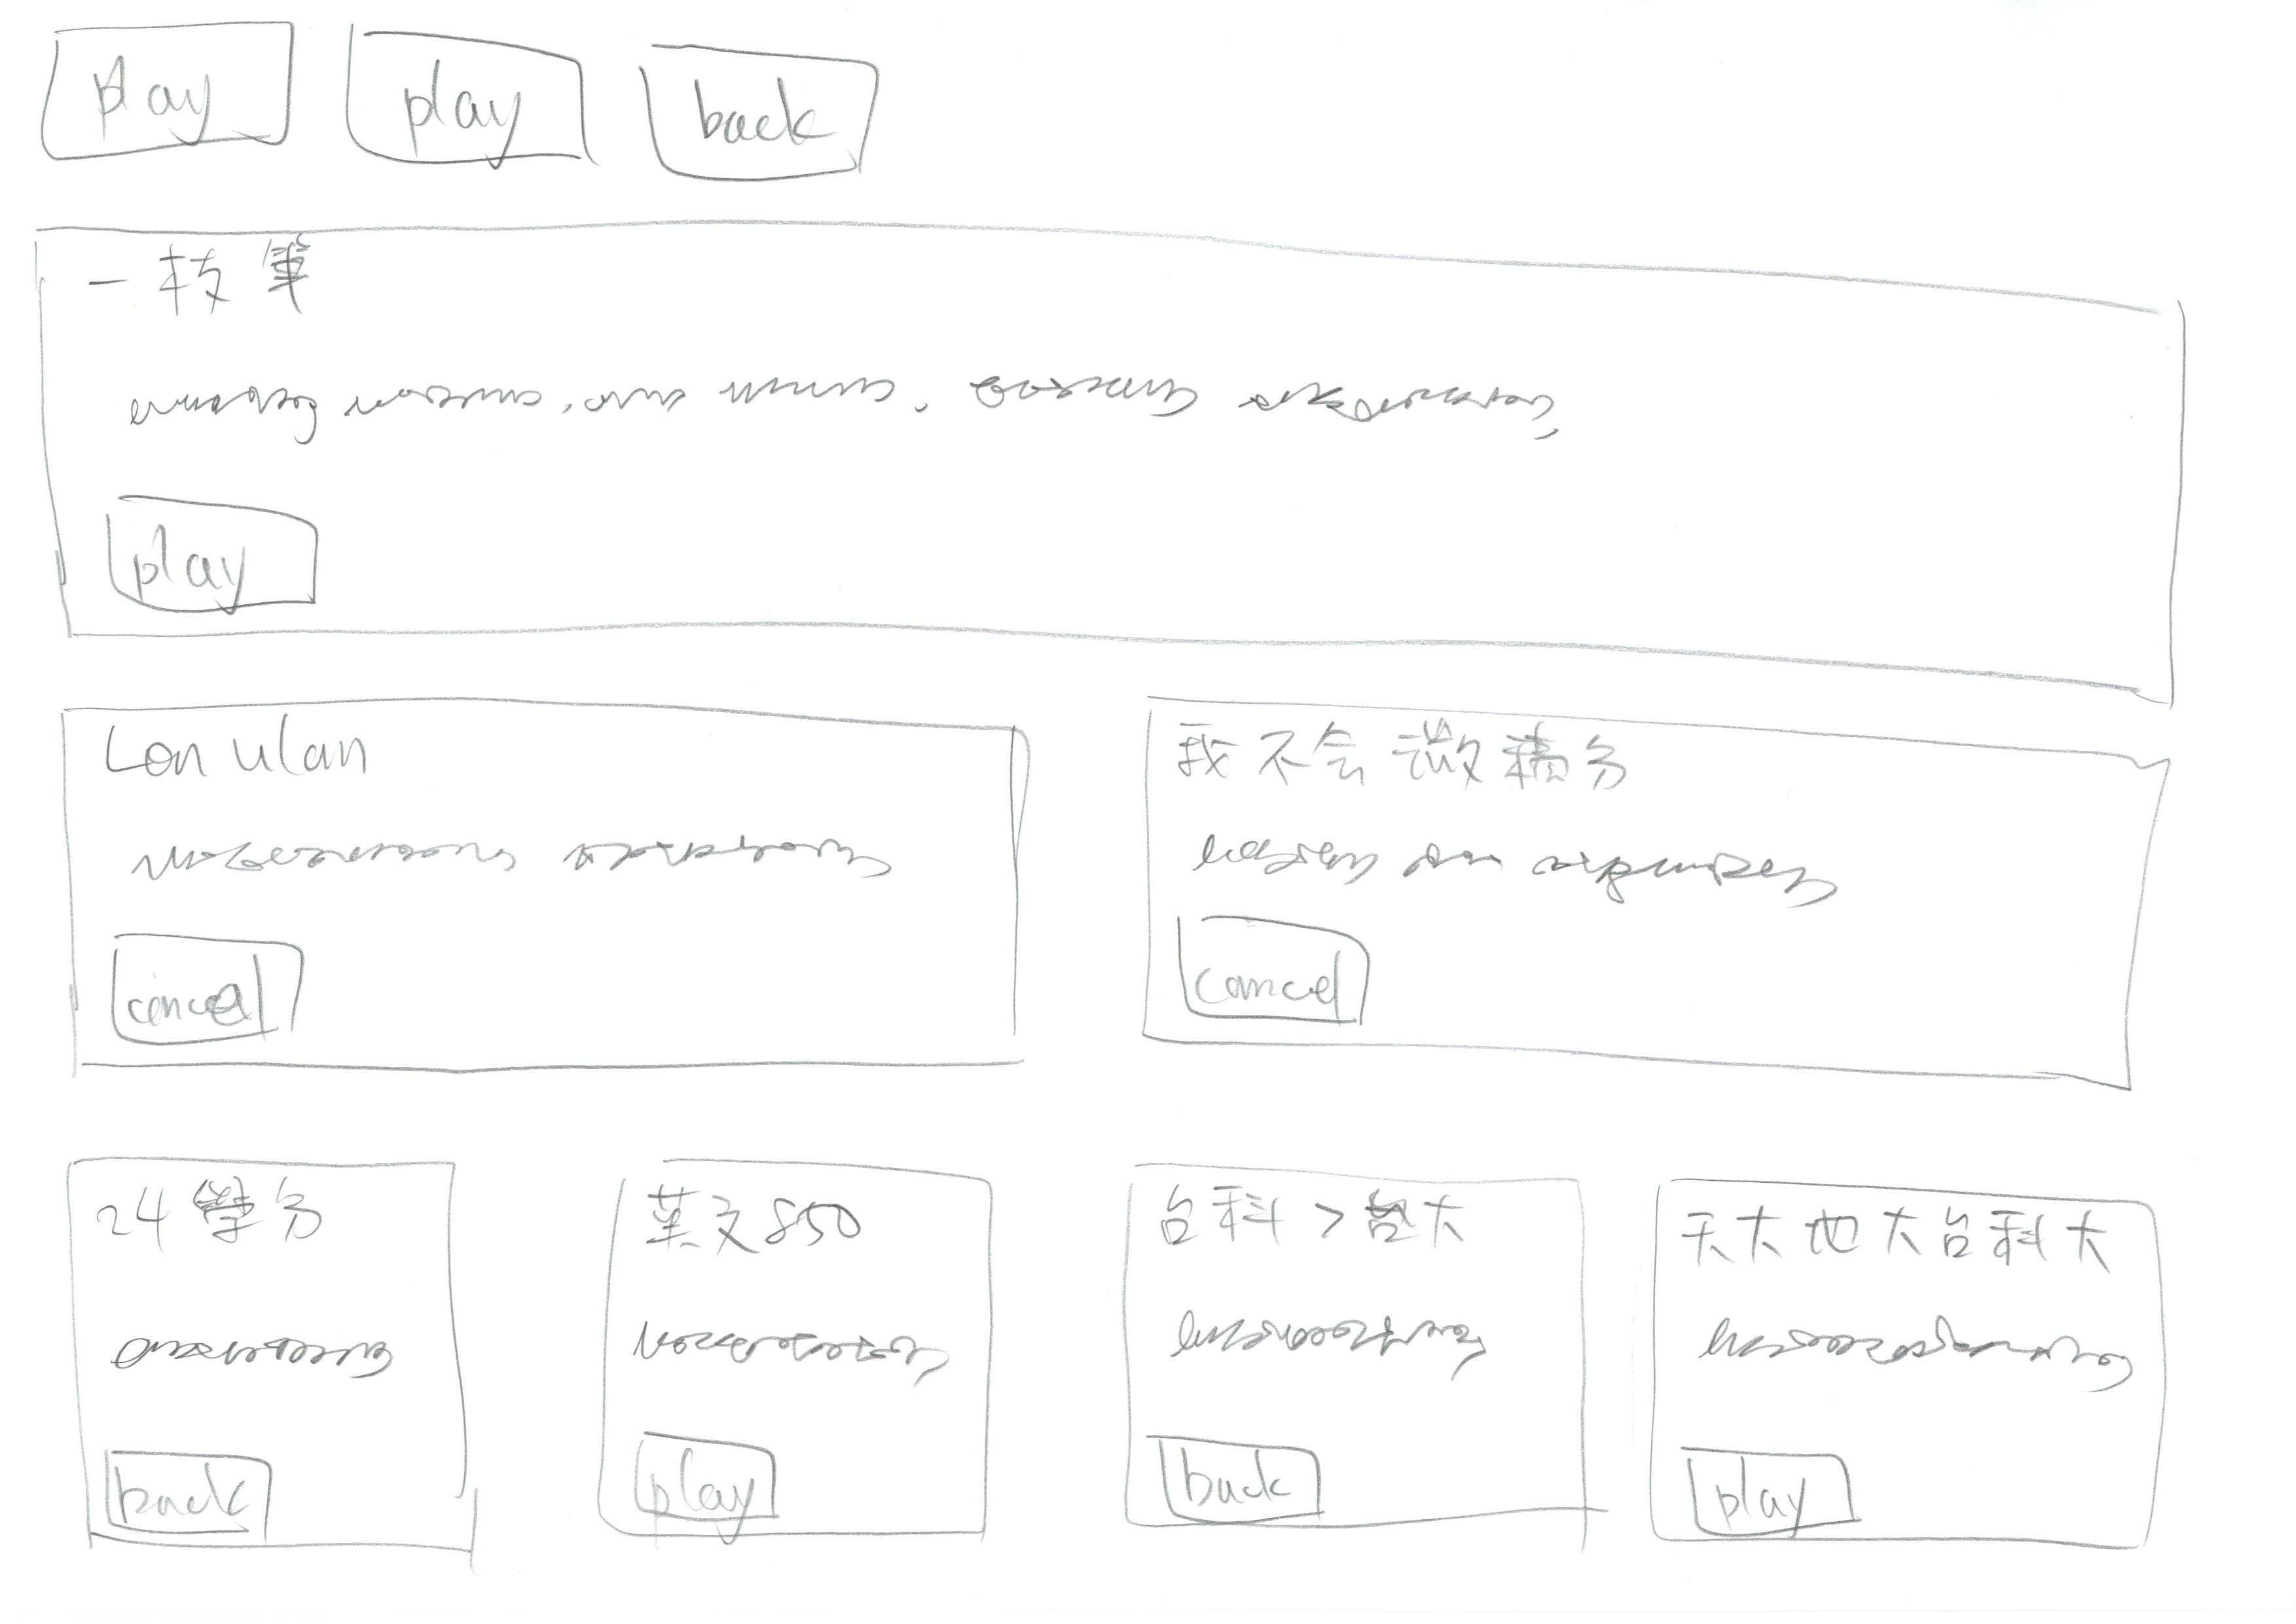back: (626, 5, 890, 202), (95, 1431, 280, 1557), (1136, 1424, 1327, 1536)
cancel: (83, 905, 299, 1053), (1169, 910, 1399, 1044)
double: (1108, 678, 2212, 1118), (40, 685, 1085, 1100)
play: (311, 2, 605, 202), (25, 7, 316, 204), (81, 482, 336, 619), (1656, 1427, 1888, 1555), (598, 1422, 800, 1543)
quadruple: (1624, 1121, 2208, 1612), (1099, 1137, 1621, 1613), (571, 1135, 1050, 1606), (25, 1137, 503, 1606)
row: (0, 199, 2296, 731), (0, 629, 2296, 1162), (0, 1091, 2296, 1624), (5, 0, 2296, 220)
single: (5, 207, 2233, 724)
small-title: (1160, 712, 1642, 812), (1702, 1183, 2122, 1295), (1164, 1158, 1503, 1272), (84, 230, 345, 336), (658, 1172, 844, 1271), (111, 738, 408, 796), (93, 1176, 290, 1257)
text: (120, 352, 1584, 448), (1195, 812, 1828, 903), (1681, 1301, 2166, 1406), (141, 826, 890, 891), (1171, 1301, 1519, 1380), (633, 1301, 939, 1383), (121, 1323, 415, 1394)
